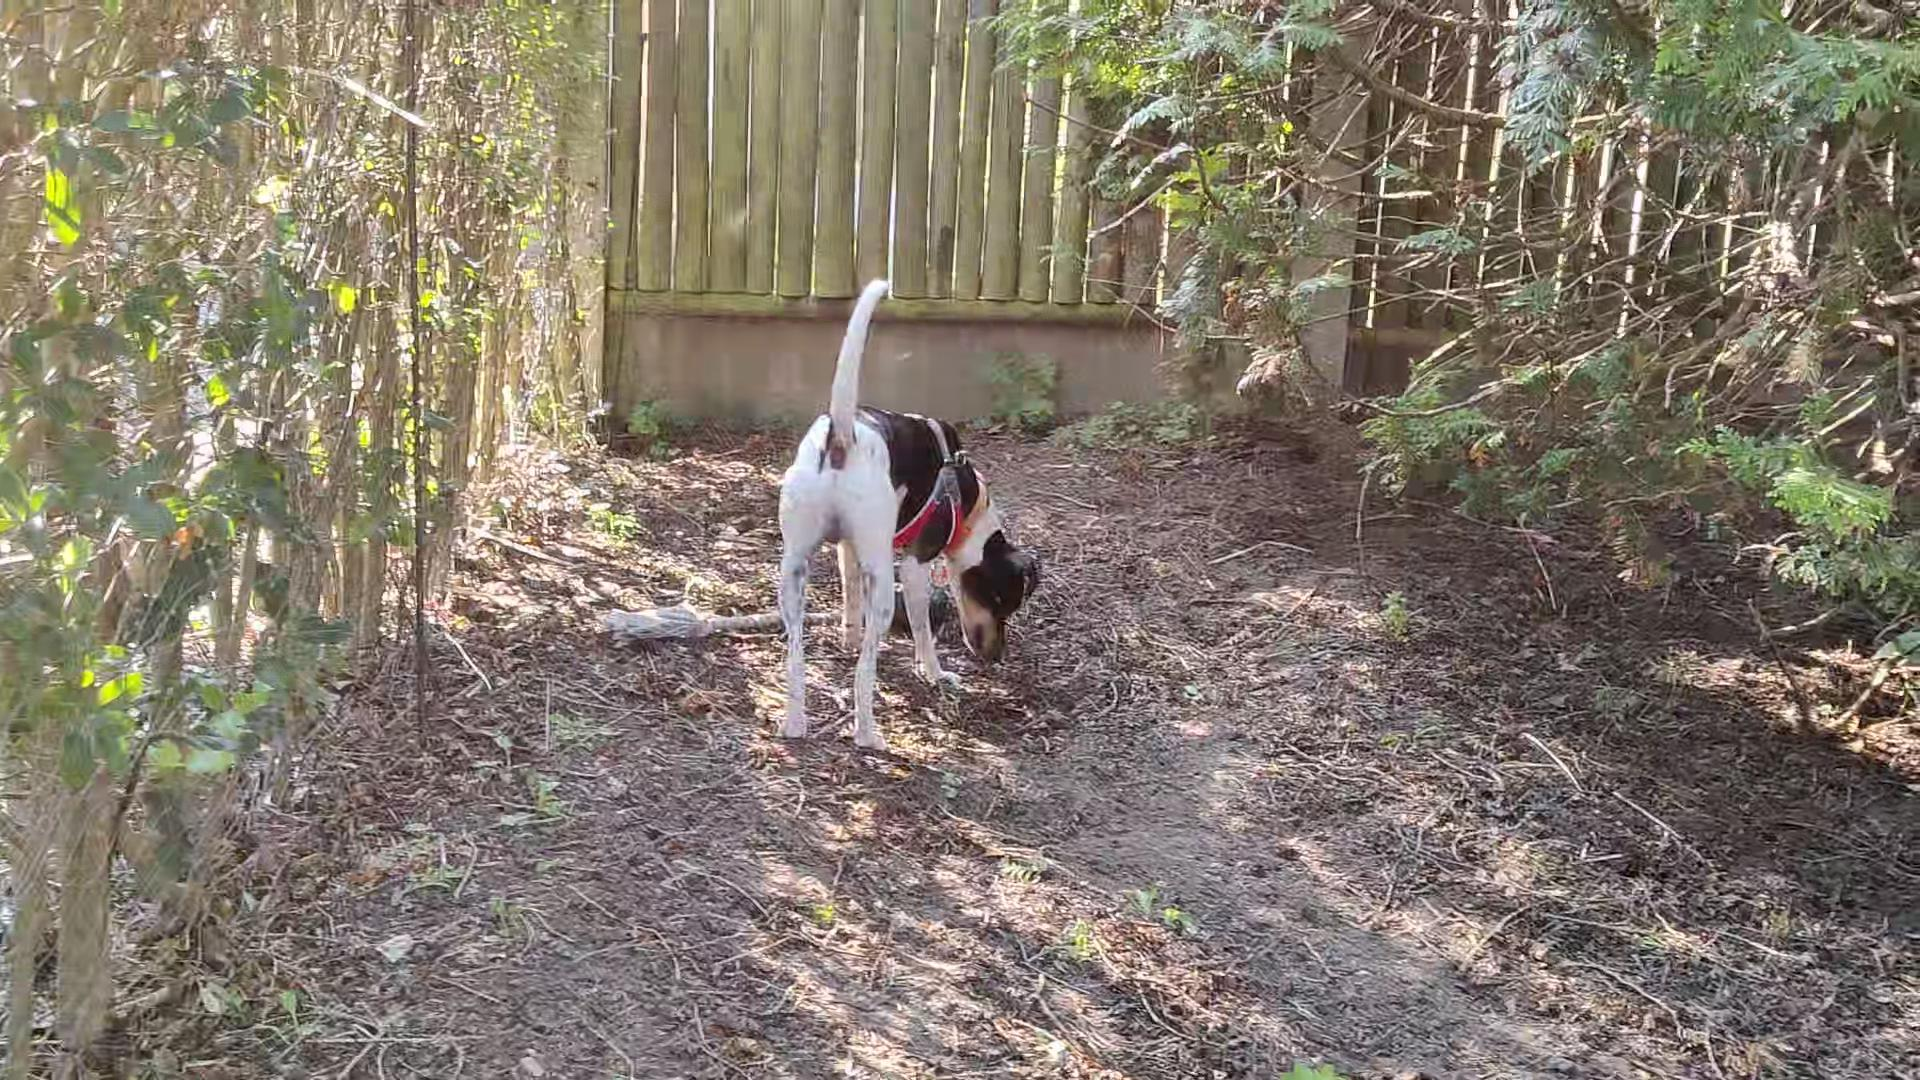Dog: (746, 262, 1050, 760)
